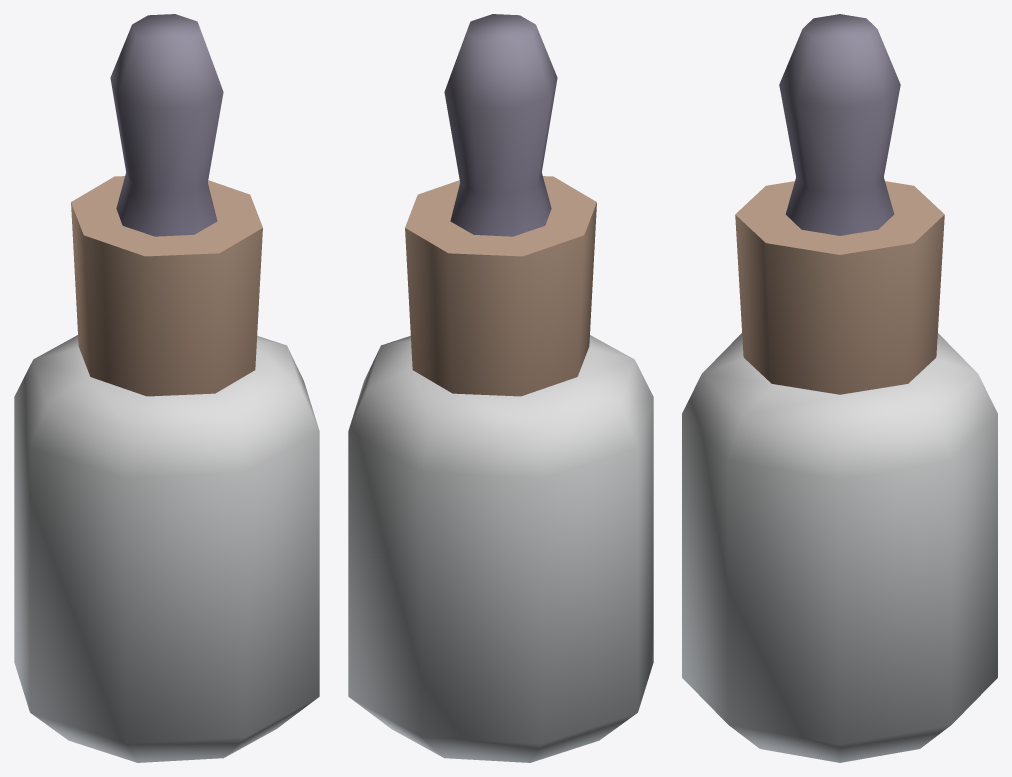
Rendered from makeup-serum.glb.
The picture shows the model from 3 angles, left to right: view 1: azimuth 30°, elevation 25°; view 2: azimuth 150°, elevation 25°; view 3: azimuth 270°, elevation 25°; orthographic projection.
Parts seen in each view (by area): view 1: makeup-serum; view 2: makeup-serum; view 3: makeup-serum.
Part boxes in pixels (box(x1,y1,x2,y2)): makeup-serum: box(14, 14, 319, 762); makeup-serum: box(348, 14, 653, 762); makeup-serum: box(682, 14, 997, 762).
Size of the model in its own units: 0.0997 by 0.2392 by 0.0997.
